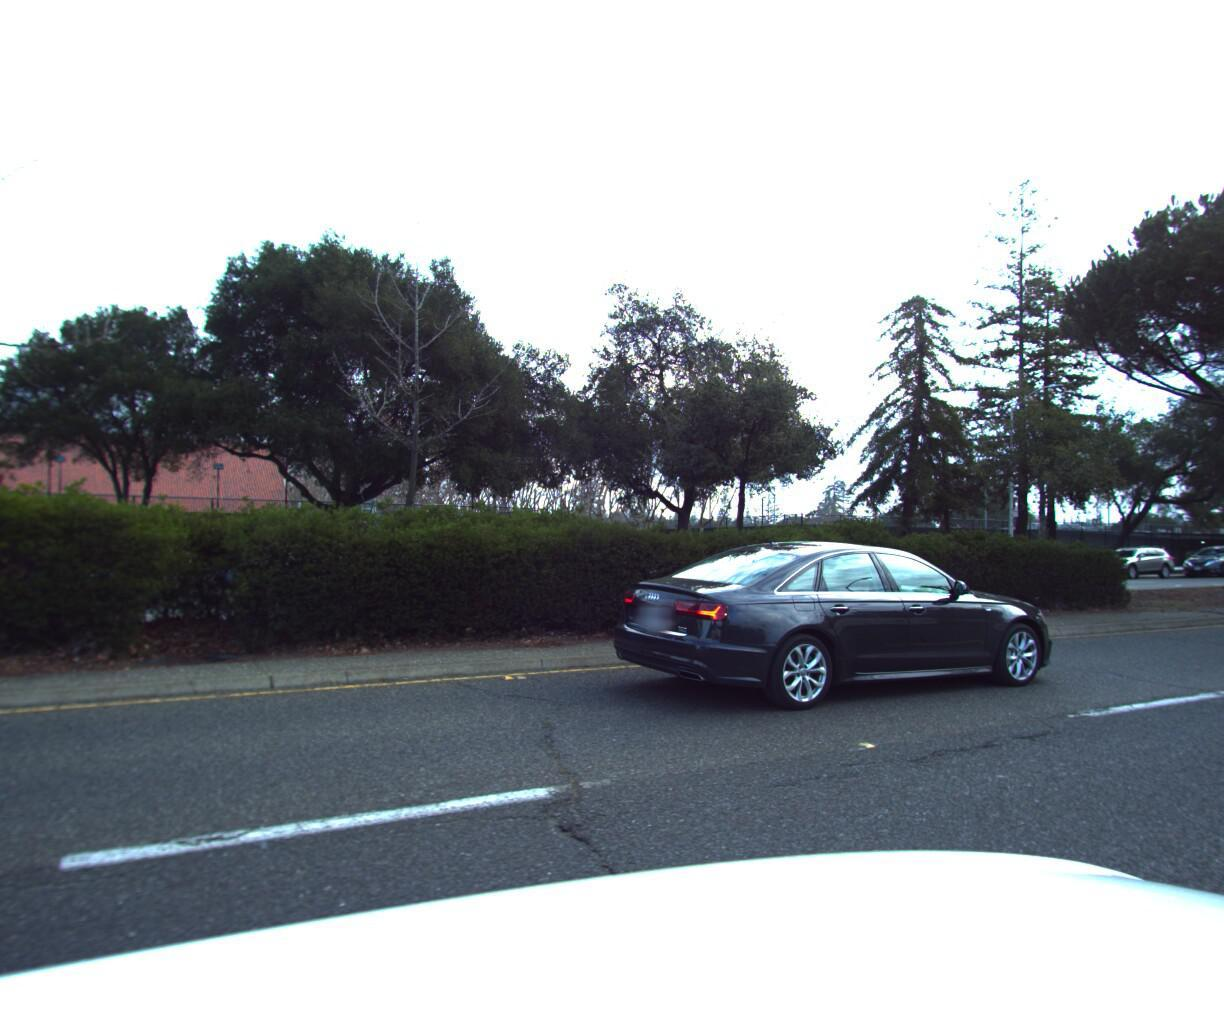car: (589, 534, 1065, 721), (1077, 537, 1174, 574), (1170, 534, 1224, 573)
